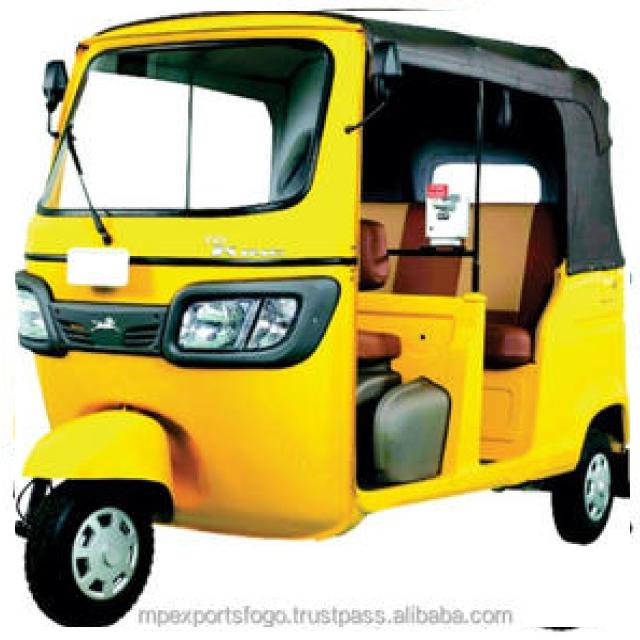autorickshaw: (15, 11, 630, 627)
